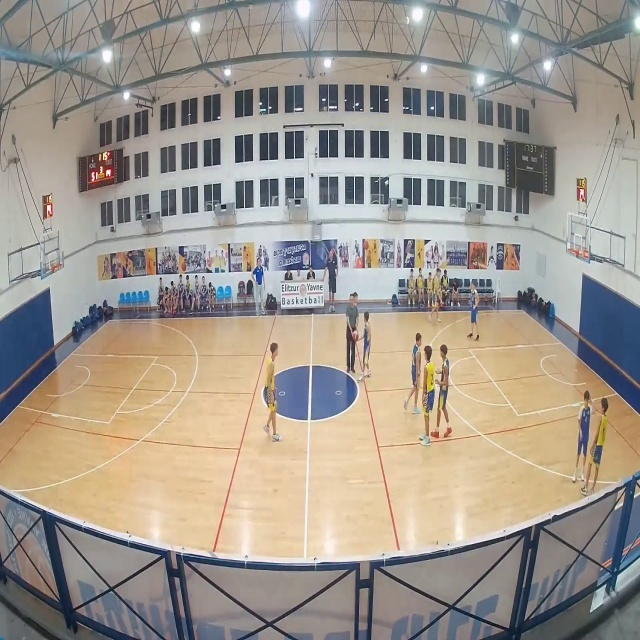Basketball: (352, 332, 358, 341)
